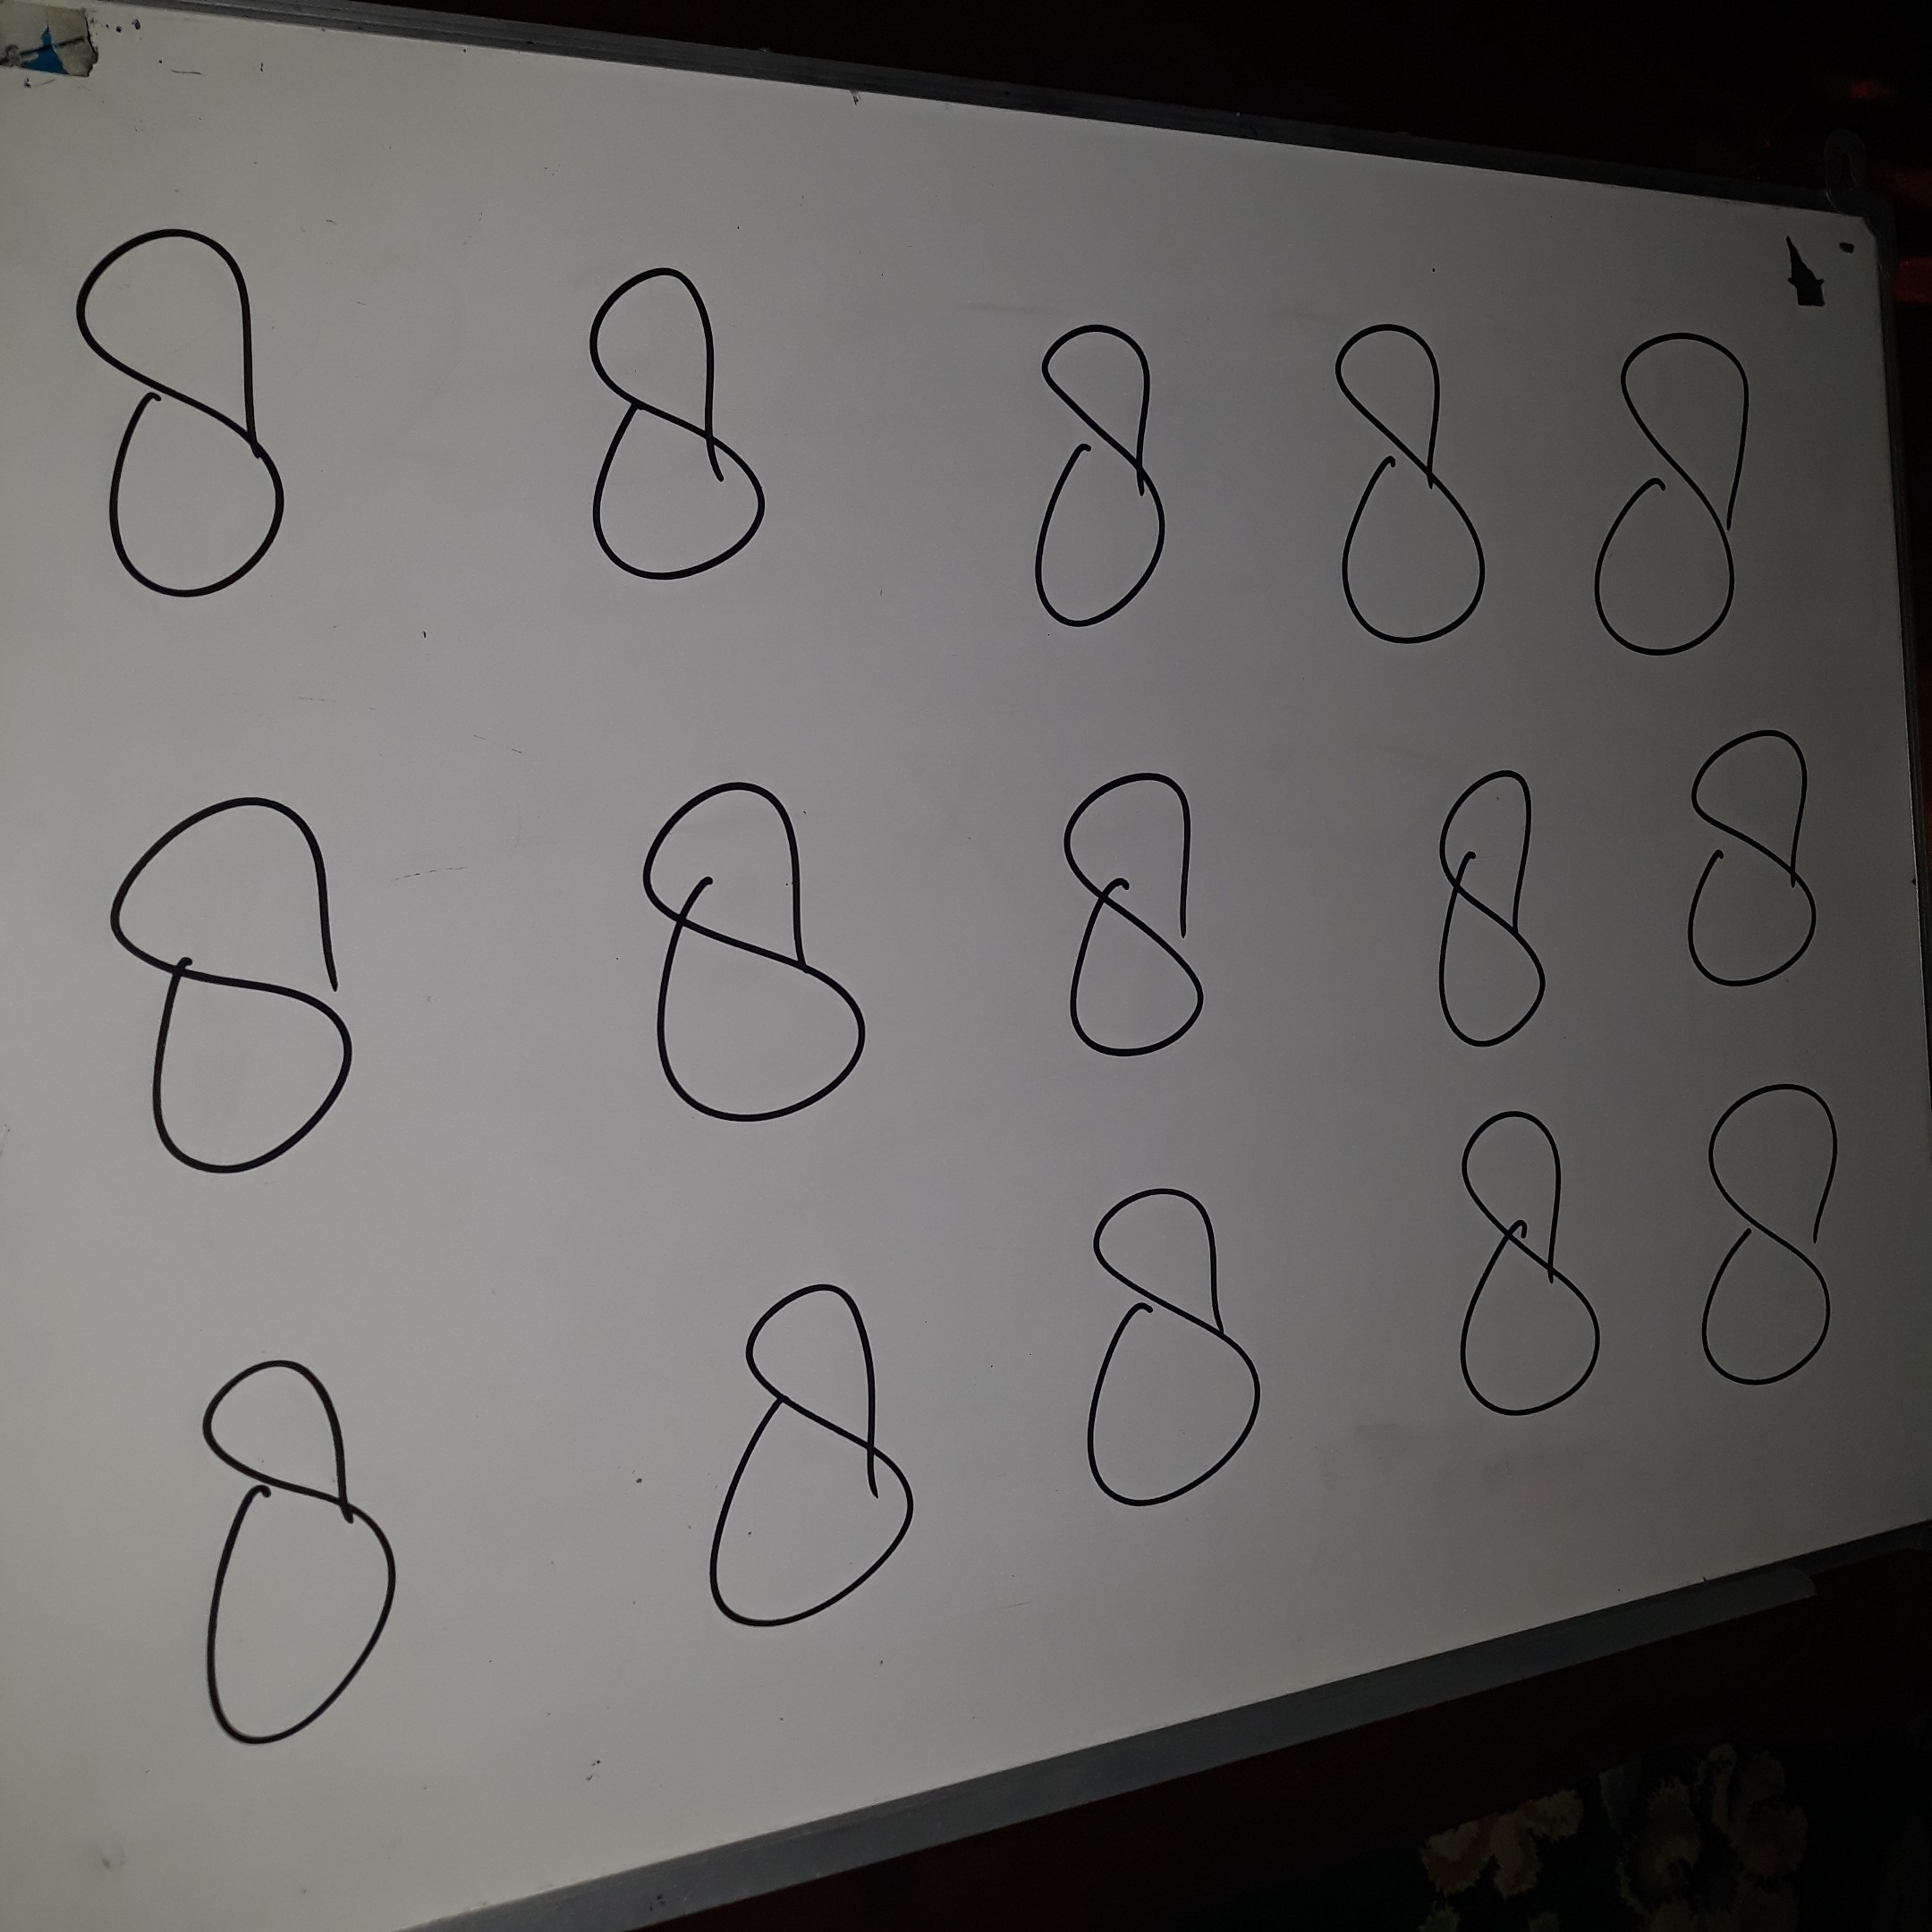num8: (626, 1251, 990, 1676), (80, 776, 390, 1182), (55, 209, 352, 629), (604, 768, 913, 1152), (530, 238, 798, 649), (172, 1335, 423, 1776), (997, 732, 1273, 1115), (1064, 1181, 1307, 1546), (1307, 302, 1515, 677), (1426, 1106, 1648, 1439), (1586, 307, 1782, 670), (1685, 1063, 1878, 1417), (1013, 301, 1206, 651), (1411, 756, 1594, 1080), (1666, 718, 1852, 1005)
